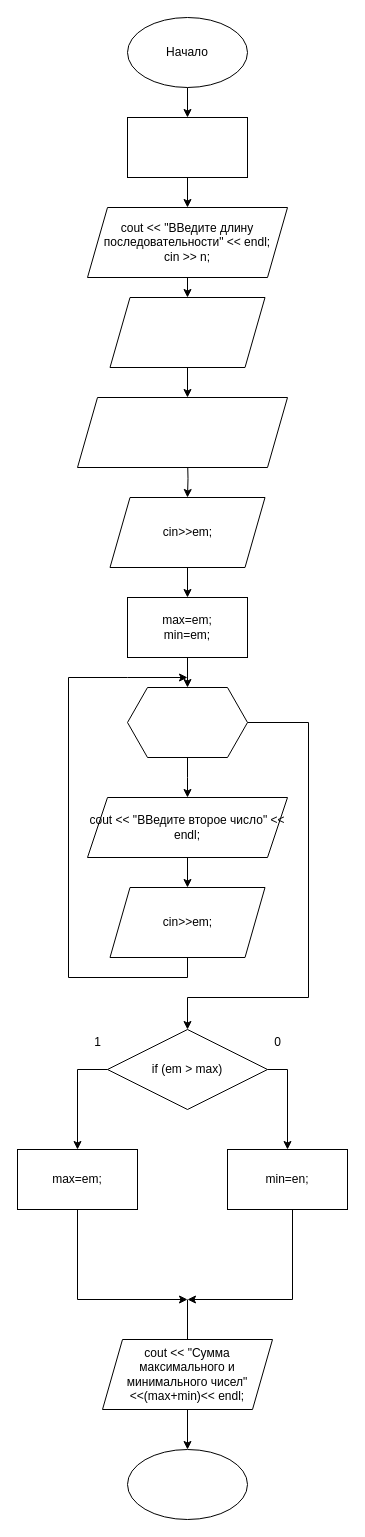
The diagram is 365 pixels wide and 1537 high, and some of its shapes have lost their labels. Here are the shapes that lost their labels. From the top down, the centre of each, then its label:
[187,147]: int n, em, max, min;
[187,332]: cin>>n;
[182,432]: cout << "ВВедите первое число" << endl;
[187,722]: for (int i = 2; i <= n;i++)
[187,1484]: Конец
